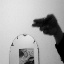h: (30, 12, 60, 36)
